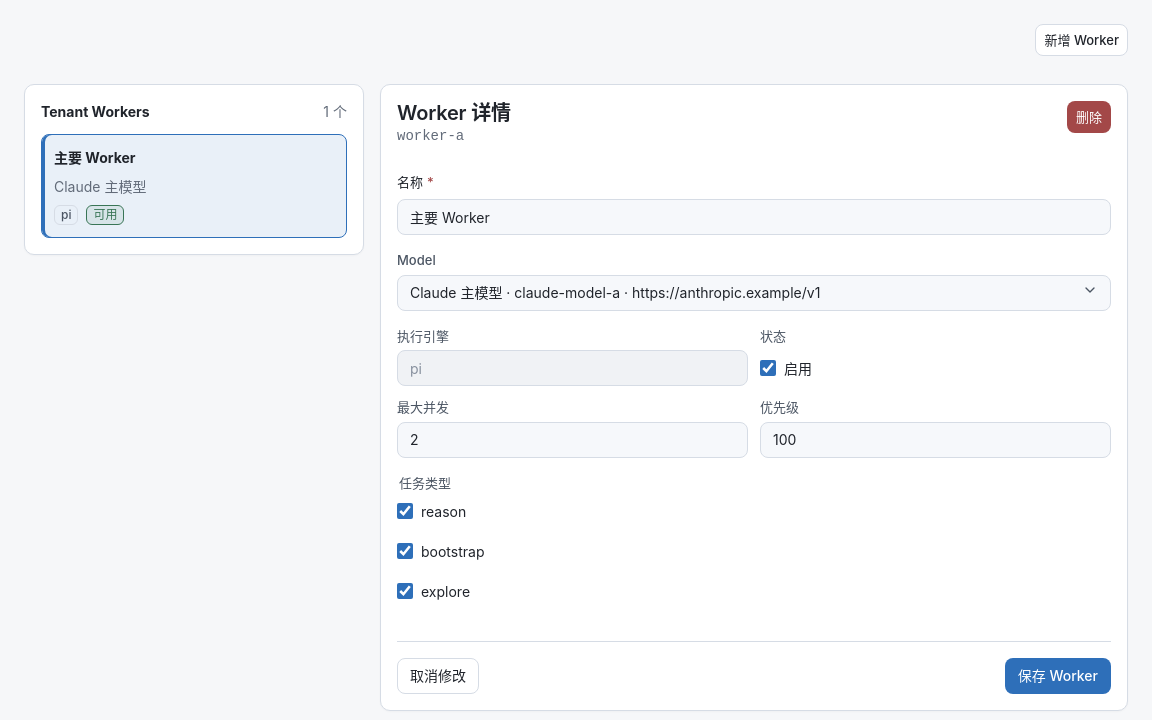
Test: TenantWorkersPage › uses ConfirmAction for deletion and preserves the revision payload
This screenshot has width=1152, height=720.
Step 1. Click the button "删除" → [1089, 117], box top-left (1067, 101), bottom-right (1111, 133)
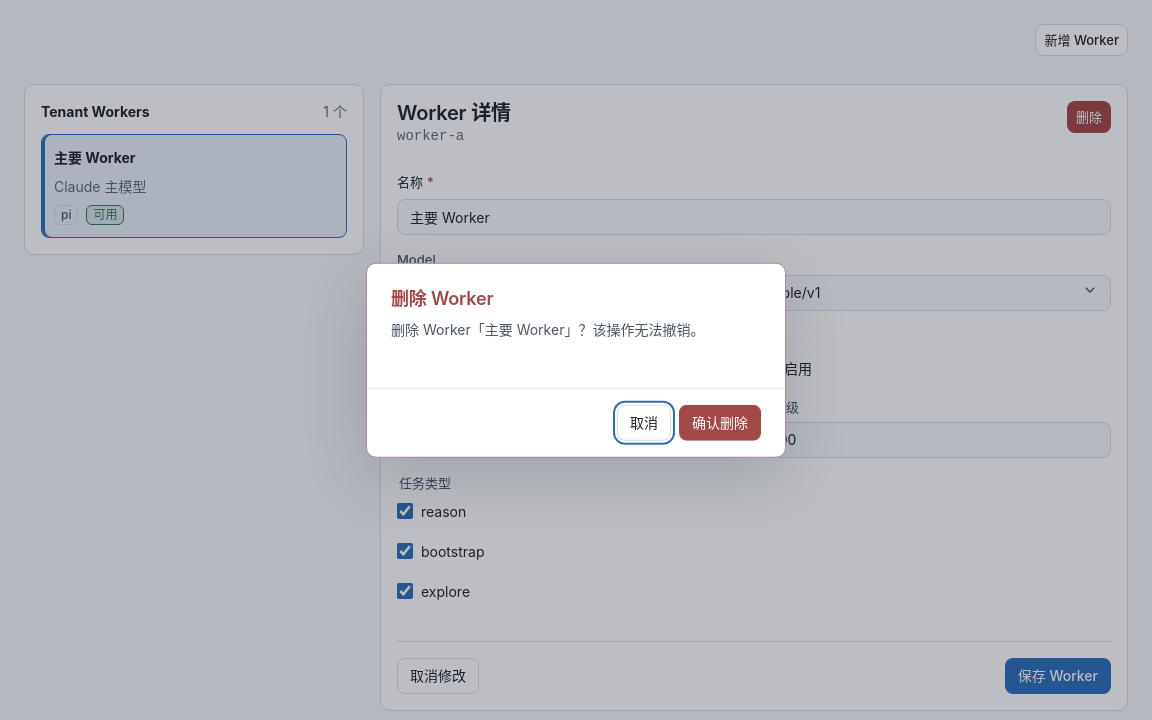
Step 2. Click the button "确认删除" → [720, 422], box top-left (679, 404), bottom-right (761, 440)
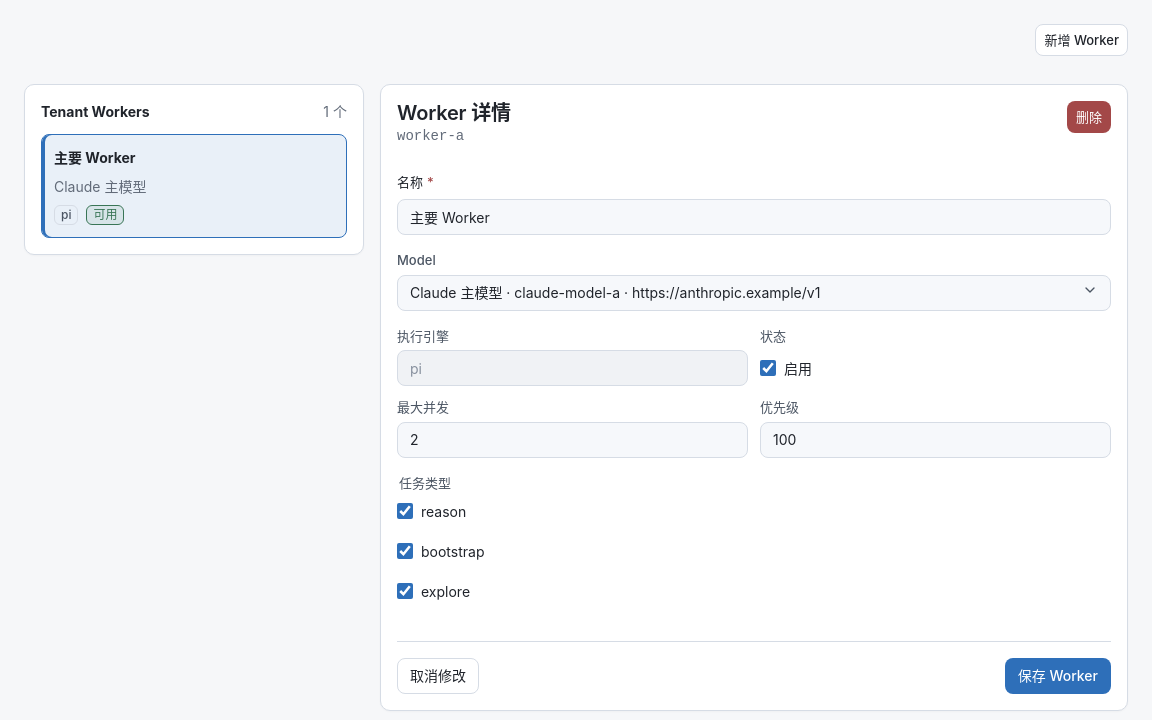
Check: the dialog is gone
